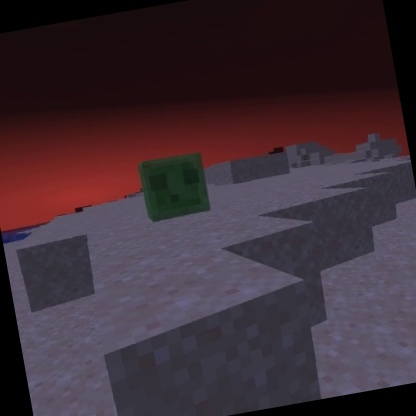slime: (133, 147, 217, 226)
